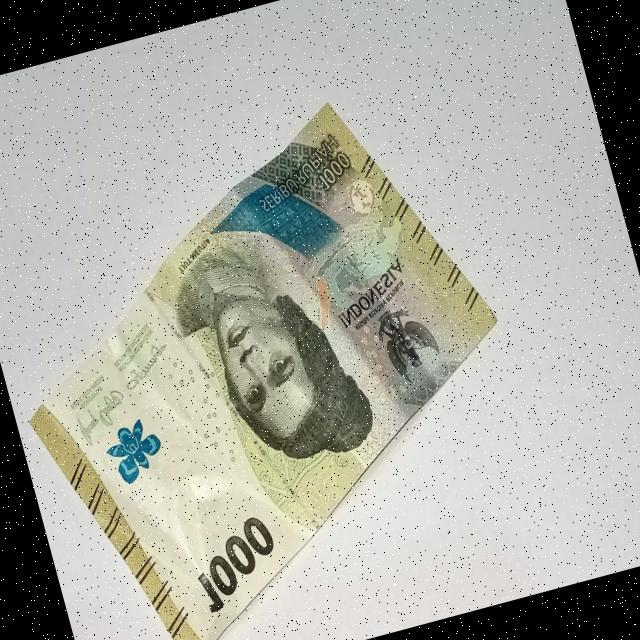1K: (0, 63, 588, 640)
